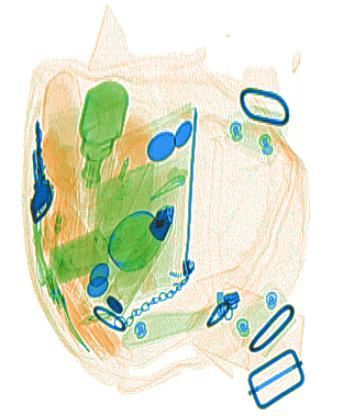plasticBottleWithaNozzle: (99, 110, 157, 222)
